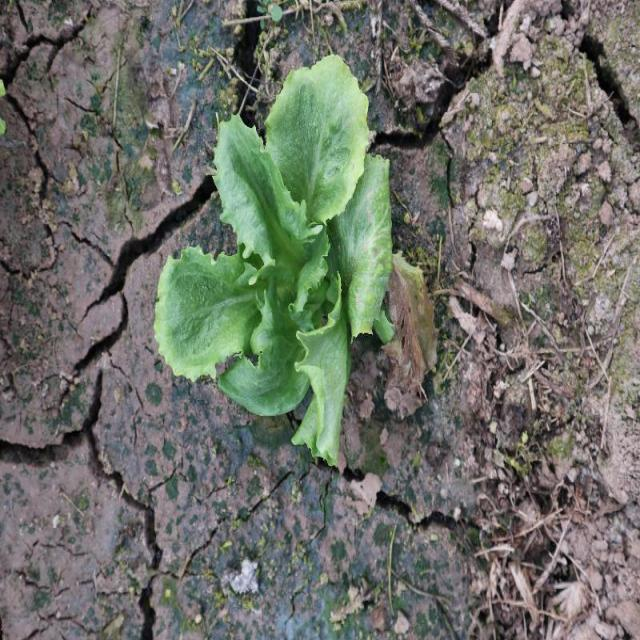crop: (152, 51, 394, 465)
